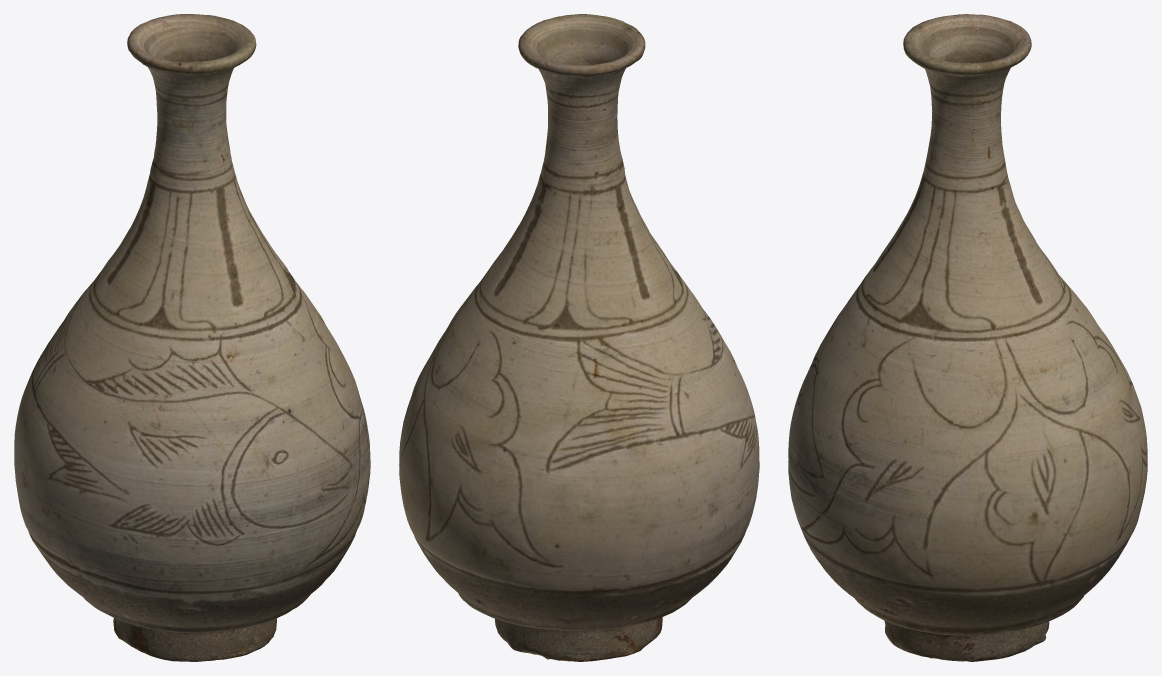
File: fishbottle.glb
3 views of the same model, side by side, from view 1: azimuth 30°, elevation 25°; view 2: azimuth 150°, elevation 25°; view 3: azimuth 270°, elevation 25° (orthographic).
Parts seen in each view (by area): view 1: Object_2; view 2: Object_2; view 3: Object_2.
Part boxes in pixels (box(x1,y1,x2,y2)): Object_2: box(14, 14, 370, 661); Object_2: box(399, 14, 759, 661); Object_2: box(788, 14, 1147, 661).
Bounding box in the file's own units: 0.1676 × 0.3066 × 0.1691.
1 material, 1 textured.
